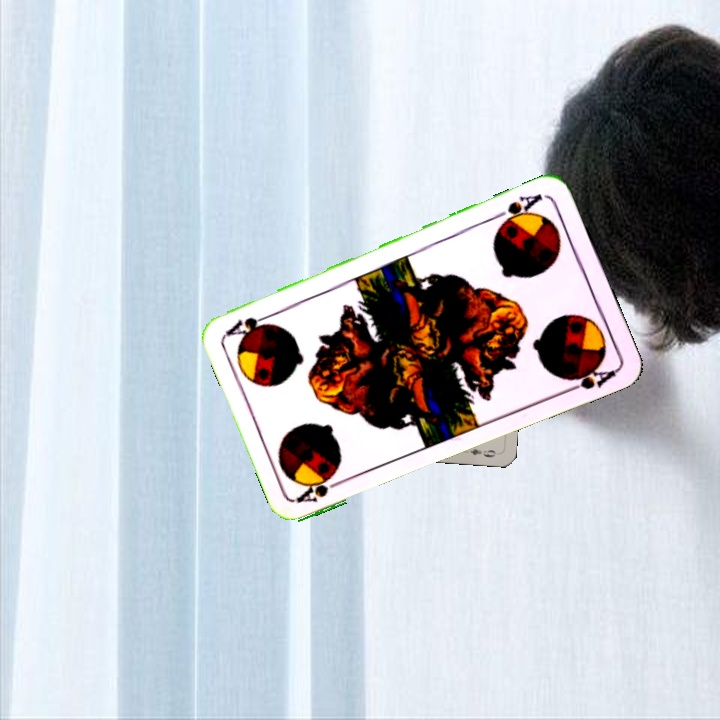SA: (490, 189, 545, 230), (293, 468, 349, 506)
